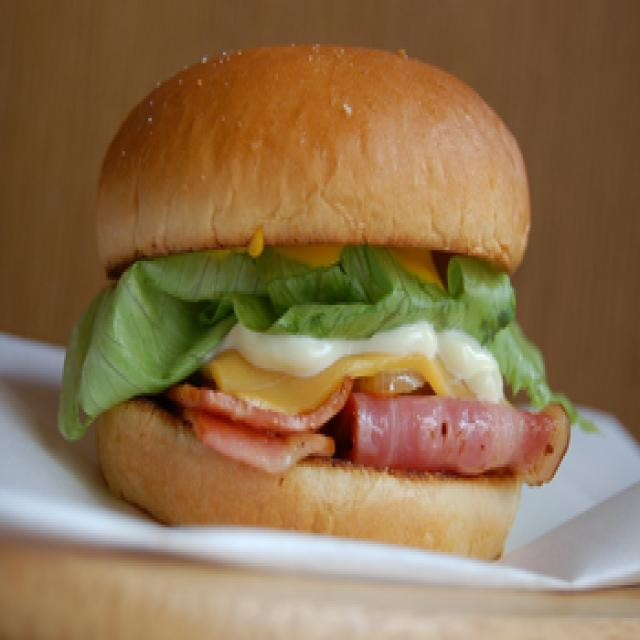Hamburger: (61, 2, 586, 638)
